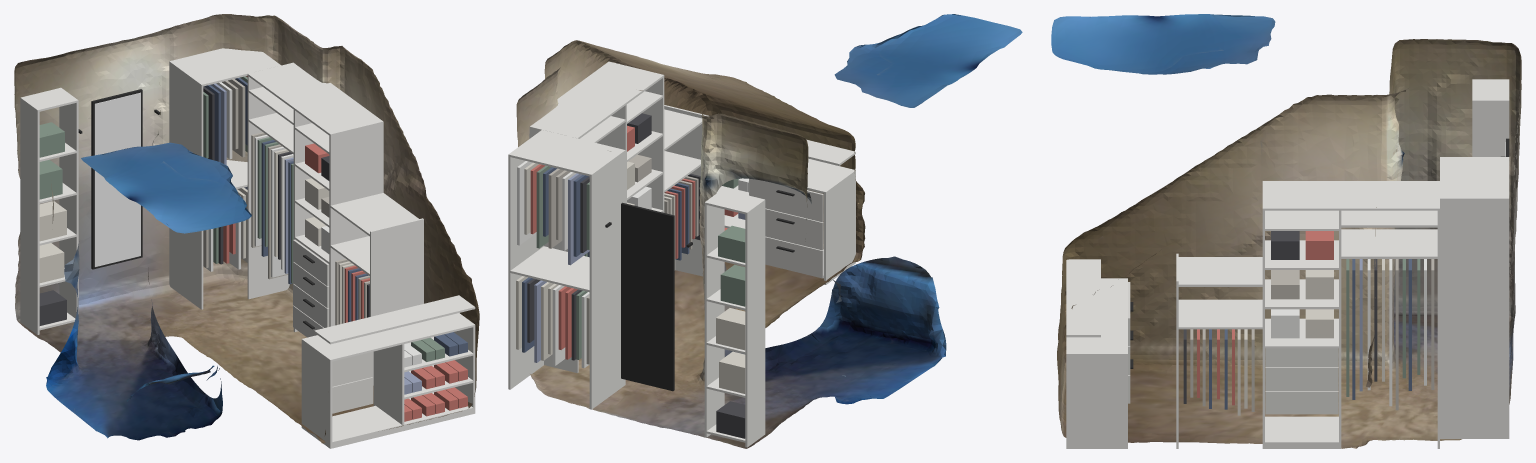
3 renders of one model, left to right at view 1: azimuth 30°, elevation 25°; view 2: azimuth 150°, elevation 25°; view 3: azimuth 270°, elevation 25°, orthographic. The views are drawn at different scales.
Parts seen in each view (by area): view 1: Scan_Closet2, Mirror_Glass, E2_Panel_S, N_Panel_W, E1_EndPanel, N2_Side_W, E_Top, S_Top, S_Bottom, N2_Side_E, S_Shelf_Upper, S_Side_W (+41 smaller); view 2: Scan_Closet2, Mirror_Frame, N_Panel_W, N2_Side_W, E_Top, N2_Side_E, N_Panel_E, S_Side_W, N_Top, N_Shelf_Mid, S_Drawer_Front3, E2_Panel_S (+31 smaller); view 3: Scan_Closet2, N_Panel_E, S_Side_E, E_Top, E3_Shelf_1, N_Top, S_Shelf_Upper, S_Top, E1_Shelf_Mid, E1_Shelf_Top, E2_Bottom, N2_Side_E (+29 smaller).
Boxes of the visible parts, left/top/right/bottom form: Scan_Closet2: left=14, top=14, right=479, bottom=443; Mirror_Glass: left=94, top=92, right=140, bottom=266; E2_Panel_S: left=329, top=121, right=383, bottom=326; N_Panel_W: left=169, top=61, right=203, bottom=309; E1_EndPanel: left=370, top=218, right=423, bottom=385; N2_Side_W: left=20, top=97, right=39, bottom=334; E_Top: left=248, top=63, right=383, bottom=134; S_Top: left=302, top=313, right=473, bottom=361; S_Bottom: left=304, top=392, right=475, bottom=448; N2_Side_E: left=59, top=88, right=78, bottom=323; S_Shelf_Upper: left=314, top=295, right=475, bottom=344; S_Side_W: left=301, top=339, right=332, bottom=448; Scan_Closet2: left=516, top=14, right=1022, bottom=448; Mirror_Frame: left=621, top=202, right=674, bottom=391; N_Panel_W: left=589, top=150, right=625, bottom=409; N2_Side_W: left=745, top=199, right=765, bottom=447; E_Top: left=530, top=62, right=664, bottom=138; N2_Side_E: left=704, top=189, right=724, bottom=437; N_Panel_E: left=508, top=130, right=543, bottom=389; S_Side_W: left=824, top=169, right=855, bottom=284; N_Top: left=508, top=130, right=625, bottom=176; N_Shelf_Mid: left=510, top=246, right=589, bottom=292; S_Drawer_Front3: left=750, top=179, right=823, bottom=222; E2_Panel_S: left=608, top=61, right=664, bottom=212; Scan_Closet2: left=1051, top=14, right=1521, bottom=448; N_Panel_E: left=1440, top=197, right=1509, bottom=438; S_Side_E: left=1066, top=353, right=1127, bottom=448; E_Top: left=1263, top=181, right=1439, bottom=210; E3_Shelf_1: left=1341, top=229, right=1437, bottom=258; N_Top: left=1440, top=157, right=1509, bottom=200; S_Shelf_Upper: left=1066, top=259, right=1100, bottom=337; S_Top: left=1066, top=278, right=1127, bottom=355; E1_Shelf_Mid: left=1178, top=299, right=1262, bottom=329; E1_Shelf_Top: left=1178, top=257, right=1262, bottom=286; E2_Bottom: left=1265, top=416, right=1338, bottom=448; N2_Side_E: left=1472, top=99, right=1509, bottom=156.
Size of the model in its own units: 3.17 by 2.6 by 3.81.
Materials: 14 (1 with a texture image).
